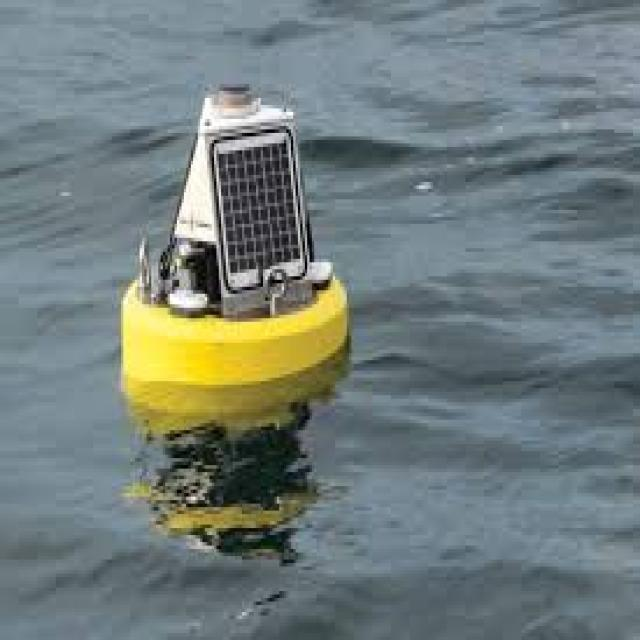marque: (109, 48, 361, 407)
